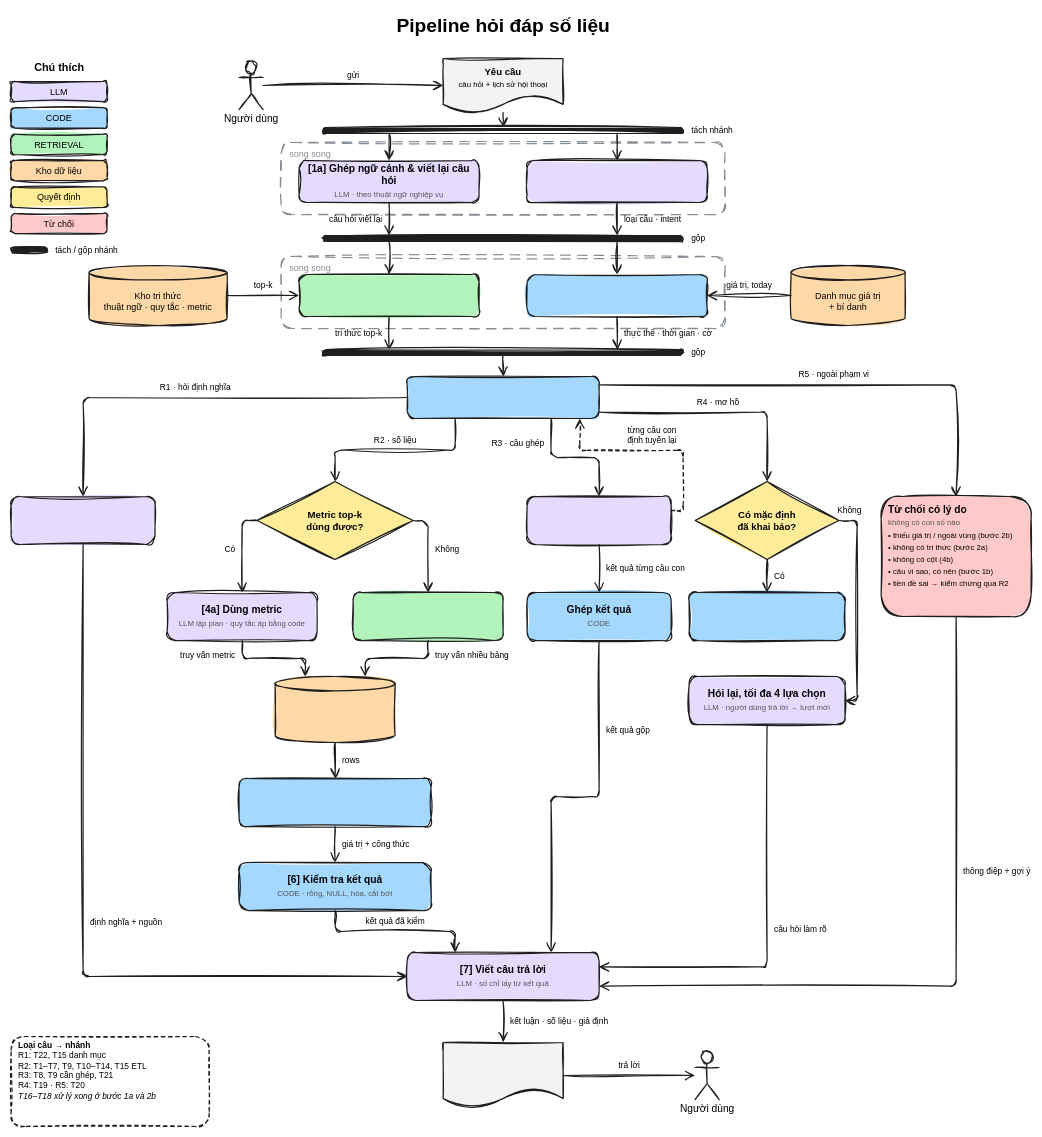
The diagram is 1042 pixels wide and 1137 high, and some of its shapes have lost their labels. The shapes that lost their labels are listed below. From the top down, each one's centre as x and y in pixels, then its label:
point 616,181: [1b] Phân loại câu hỏi / intent LLM · loại câu T1–T22
point 388,295: [2a] Retrieve top-k tri thức RETRIEVAL
point 616,295: [2b] Chuẩn hóa & trích thực thể CODE · entity linking · quy đổi thời gian
point 502,397: [3] Định tuyến CODE · intent + kết quả 2a, 2b
point 82,520: Trả lời từ tri thức LLM · không query DB
point 598,520: Tách câu con LLM · mỗi câu con giữ quy tắc riêng
point 427,616: [4b] Top-k cột / bảng RETRIEVAL + LLM · nối bảng đã khai báo
point 766,616: Dùng mặc định + ghi giả định CODE · rồi chạy như R2
point 334,709: Kho dữ liệu data_wh
point 334,802: [5] Tính sau truy vấn CODE · so sánh, tỷ lệ, thứ hạng, xu hướng
point 502,1075: Câu trả lời + trace cho benchmark
